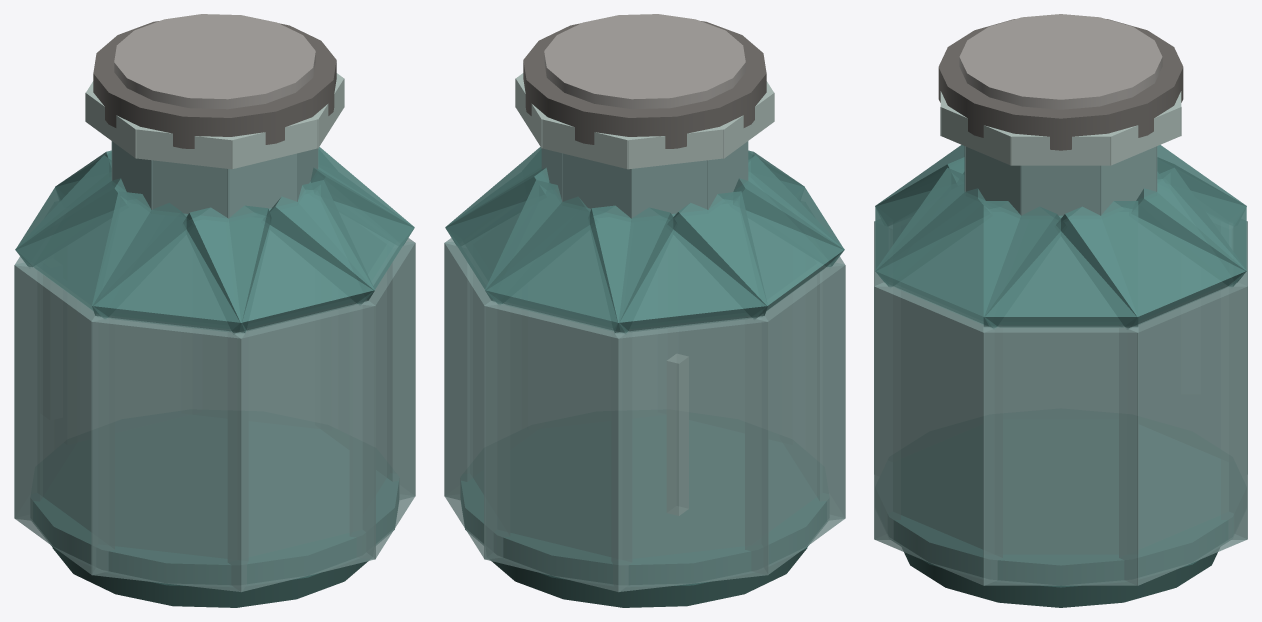
The model's file is CMU3DBottleCappedStudyCloud.glb.
3 renders of one model, left to right at view 1: azimuth 30°, elevation 25°; view 2: azimuth 150°, elevation 25°; view 3: azimuth 270°, elevation 25°, orthographic.
Visible parts, largest first — view 1: hollow bottle wall 06, bottom glass welt, hollow bottle wall 07, hollow bottle wall 05, inward glass shoulder 06, inward glass shoulder 07, hollow bottle wall 08, recessed lid crown, inward glass shoulder 05, inward glass shoulder 08, hollow bottle wall 01, source grey removable lid (+15 smaller); view 2: hollow bottle wall 04, hollow bottle wall 03, bottom glass welt, hollow bottle wall 05, inward glass shoulder 04, inward glass shoulder 03, hollow bottle wall 02, recessed lid crown, inward glass shoulder 05, inward glass shoulder 02, hollow bottle wall 01, source grey removable lid (+16 smaller); view 3: bottom glass welt, hollow bottle wall 01, hollow bottle wall 08, hollow bottle wall 02, inward glass shoulder 01, inward glass shoulder 02, inward glass shoulder 08, recessed lid crown, hollow bottle wall 06, source grey removable lid, hollow bottle wall 05, hollow bottle wall 04 (+13 smaller).
Part boxes in pixels (x1=…): hollow bottle wall 06: x1=91, y1=316, x2=248, y2=591; bottom glass welt: x1=31, y1=415, x2=398, y2=586; hollow bottle wall 07: x1=228, y1=300, x2=375, y2=591; hollow bottle wall 05: x1=14, y1=262, x2=114, y2=575; inward glass shoulder 06: x1=92, y1=191, x2=271, y2=333; inward glass shoulder 07: x1=183, y1=180, x2=374, y2=333; hollow bottle wall 08: x1=350, y1=241, x2=415, y2=559; recessed lid crown: x1=114, y1=14, x2=315, y2=109; inward glass shoulder 05: x1=15, y1=155, x2=192, y2=319; inward glass shoulder 08: x1=263, y1=147, x2=414, y2=305; hollow bottle wall 01: x1=339, y1=238, x2=415, y2=499; source grey removable lid: x1=93, y1=21, x2=336, y2=148; hollow bottle wall 04: x1=611, y1=315, x2=768, y2=591; hollow bottle wall 03: x1=484, y1=300, x2=631, y2=591; bottom glass welt: x1=461, y1=415, x2=828, y2=586; hollow bottle wall 05: x1=745, y1=262, x2=845, y2=575; inward glass shoulder 04: x1=588, y1=191, x2=767, y2=333; inward glass shoulder 03: x1=485, y1=180, x2=676, y2=333; hollow bottle wall 02: x1=444, y1=241, x2=509, y2=559; recessed lid crown: x1=544, y1=14, x2=745, y2=109; inward glass shoulder 05: x1=667, y1=155, x2=844, y2=319; inward glass shoulder 02: x1=445, y1=147, x2=596, y2=305; hollow bottle wall 01: x1=444, y1=238, x2=520, y2=499; source grey removable lid: x1=523, y1=21, x2=766, y2=148; bottom glass welt: x1=888, y1=419, x2=1233, y2=587; hollow bottle wall 01: x1=983, y1=325, x2=1138, y2=585; hollow bottle wall 08: x1=874, y1=282, x2=1002, y2=585; hollow bottle wall 02: x1=1119, y1=282, x2=1247, y2=585; inward glass shoulder 01: x1=983, y1=201, x2=1138, y2=327; inward glass shoulder 02: x1=1056, y1=167, x2=1246, y2=329; inward glass shoulder 08: x1=875, y1=167, x2=1065, y2=329; recessed lid crown: x1=959, y1=14, x2=1162, y2=109; hollow bottle wall 06: x1=874, y1=221, x2=982, y2=448; source grey removable lid: x1=938, y1=19, x2=1183, y2=150; hollow bottle wall 05: x1=1003, y1=328, x2=1118, y2=412; hollow bottle wall 04: x1=1139, y1=221, x2=1247, y2=448.
Bounding box in the file's own units: 0.3387 × 0.482 × 0.3387.
